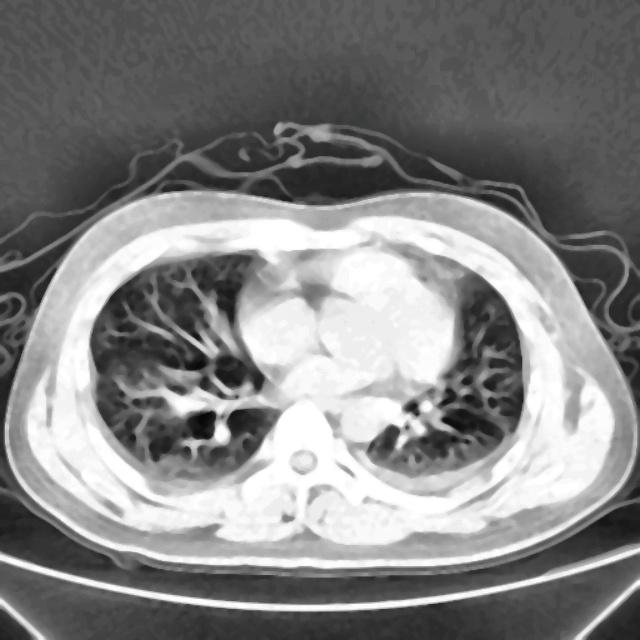covid: (1, 124, 639, 580)
